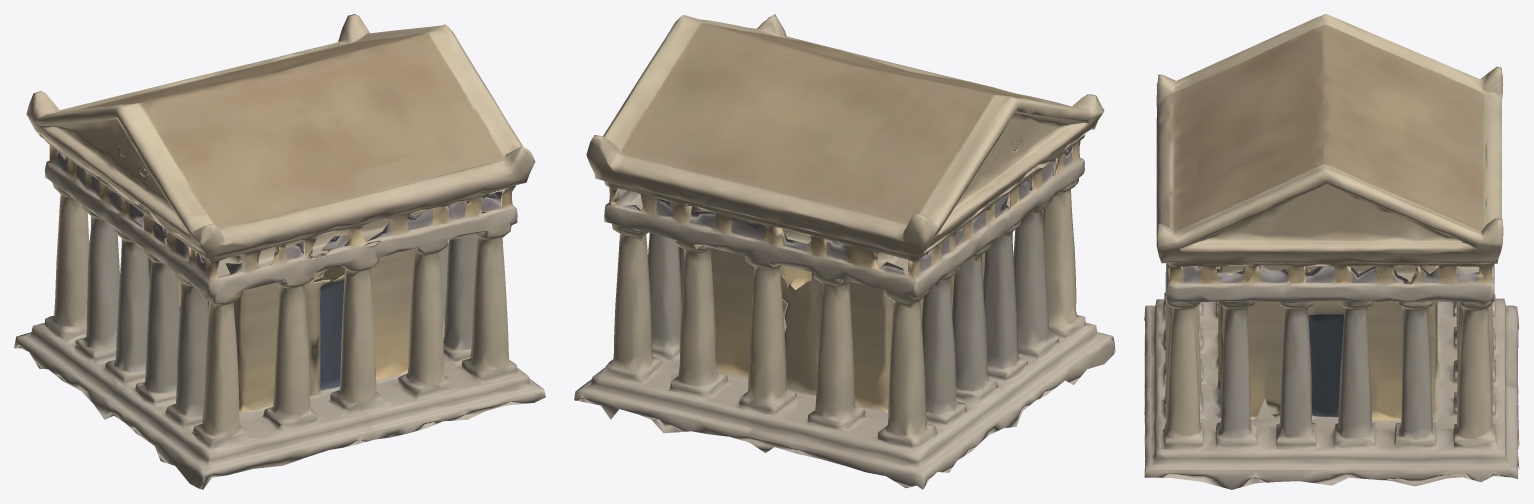
The model's file is greek_temple.glb.
3 views of the same model, side by side, from view 1: azimuth 30°, elevation 25°; view 2: azimuth 150°, elevation 25°; view 3: azimuth 270°, elevation 25° (orthographic). The views are drawn at different scales.
Visible parts, largest first — view 1: world; view 2: world; view 3: world.
Part boxes in pixels (x1=…): world: x1=14, y1=14, x2=545, y2=489; world: x1=574, y1=14, x2=1115, y2=489; world: x1=1144, y1=14, x2=1519, y2=489.
Size of the model in its own units: 20 by 17.72 by 19.04.
Materials: 1 (1 with a texture image).
